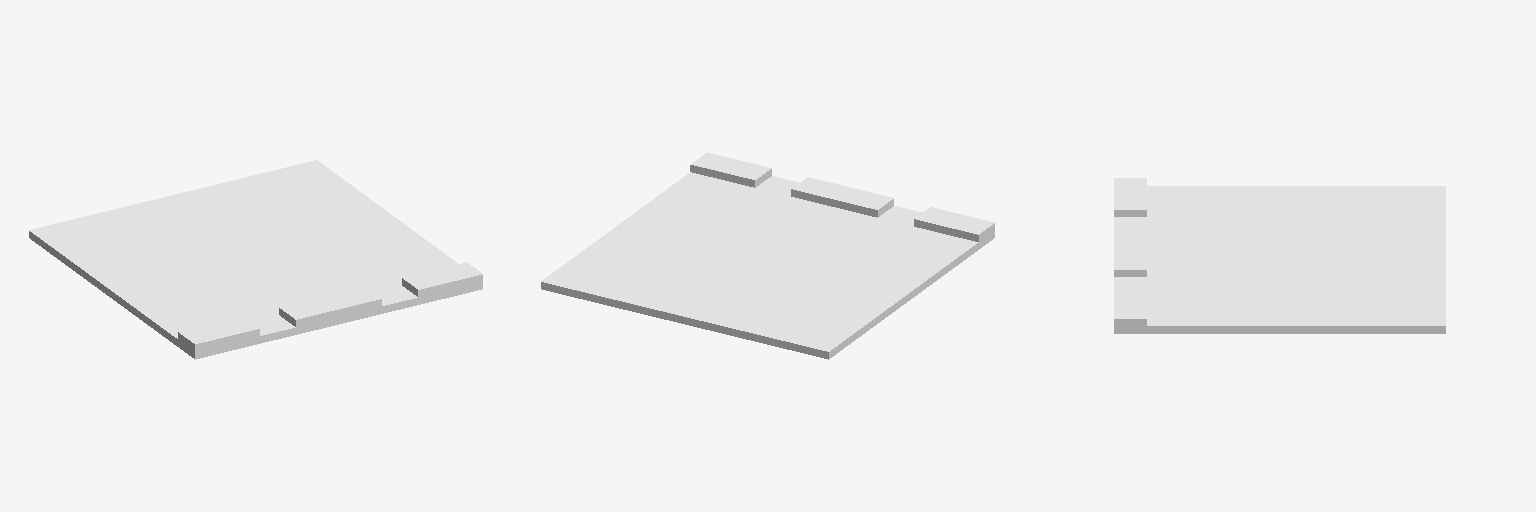
Rendered from parking_lot_mid.obj.
3 renders of one model, left to right at view 1: azimuth 30°, elevation 25°; view 2: azimuth 150°, elevation 25°; view 3: azimuth 270°, elevation 25°, orthographic.
Visible parts, largest first — view 1: object 1; view 2: object 1; view 3: object 1.
Part boxes in pixels (x1,y1,x2,y2): object 1: (29,160,482,359); object 1: (541,152,994,359); object 1: (1114,178,1445,333).
Bounding box in the file's own units: 4 × 0.2 × 4.